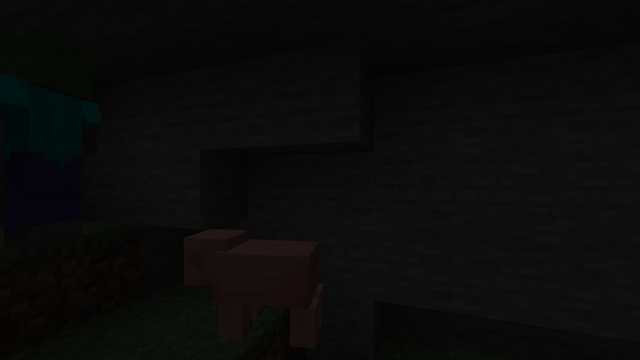cochons: (207, 233, 320, 355)
zombies: (1, 26, 98, 251)
